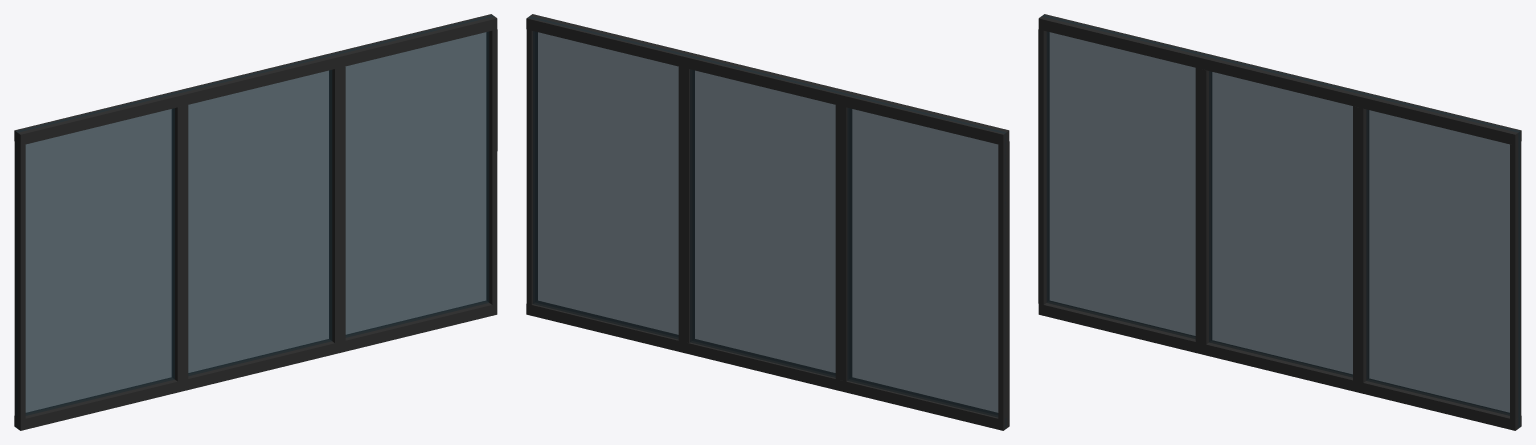
Rendered from ventanalx3.DAE.
3 renders of one model, left to right at view 1: azimuth 30°, elevation 25°; view 2: azimuth 150°, elevation 25°; view 3: azimuth 330°, elevation 25°, orthographic.
Parts seen in each view (by area): view 1: modulo3Ventanas002; view 2: modulo3Ventanas002; view 3: modulo3Ventanas002.
Part boxes in pixels (bbox=[...]): modulo3Ventanas002: bbox=[14, 14, 497, 430]; modulo3Ventanas002: bbox=[526, 14, 1009, 430]; modulo3Ventanas002: bbox=[1038, 14, 1521, 430].
Size of the model in its own units: 4.55 by 2.7 by 0.1004.
